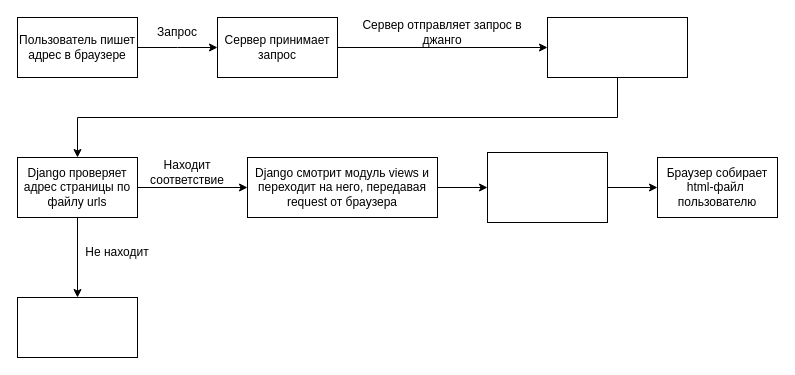
This 795x375 diagram has some shape labels left out. Here are the shapes that lost their labels. From the top down, the centre of each, then its label:
point (617, 47): Django получает запрос и считывает из него адрес страницы
point (547, 187): Отрабатывается весь код во views и отдается в templates(html-файл)
point (77, 327): Ошибка "Страница не найдена"
